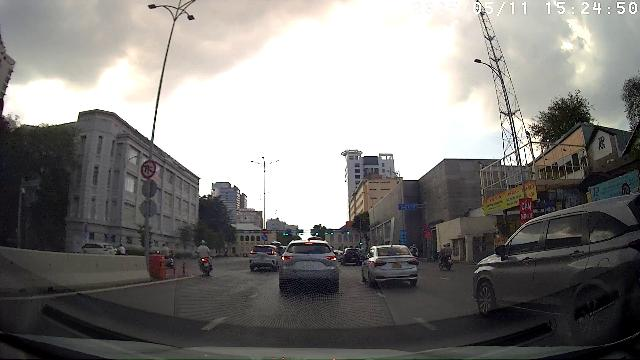124b-cam-oto-quay-dau-xe: (141, 159, 156, 179)
